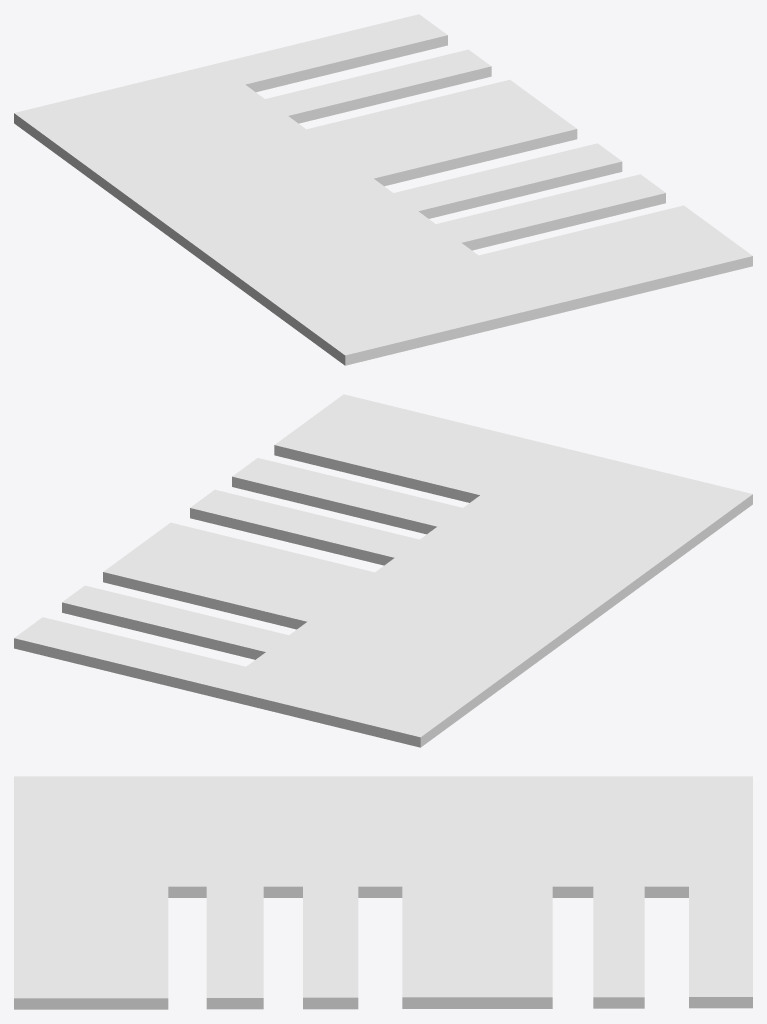
The model's file is C-B piano keys.fbx.
3 renders of one model, top to bottom at view 1: azimuth 30°, elevation 25°; view 2: azimuth 150°, elevation 25°; view 3: azimuth 270°, elevation 25°, orthographic. The views are drawn at different scales.
Parts seen in each view (by area): view 1: polySurface103; view 2: polySurface103; view 3: polySurface103.
Boxes of the visible parts, x1=… form: polySurface103: x1=14, y1=14, x2=752, y2=365; polySurface103: x1=14, y1=394, x2=752, y2=747; polySurface103: x1=14, y1=776, x2=752, y2=1009.
Bounding box in the file's own units: 0.1282 × 0.00309 × 0.1803.
1 material, 1 textured.
